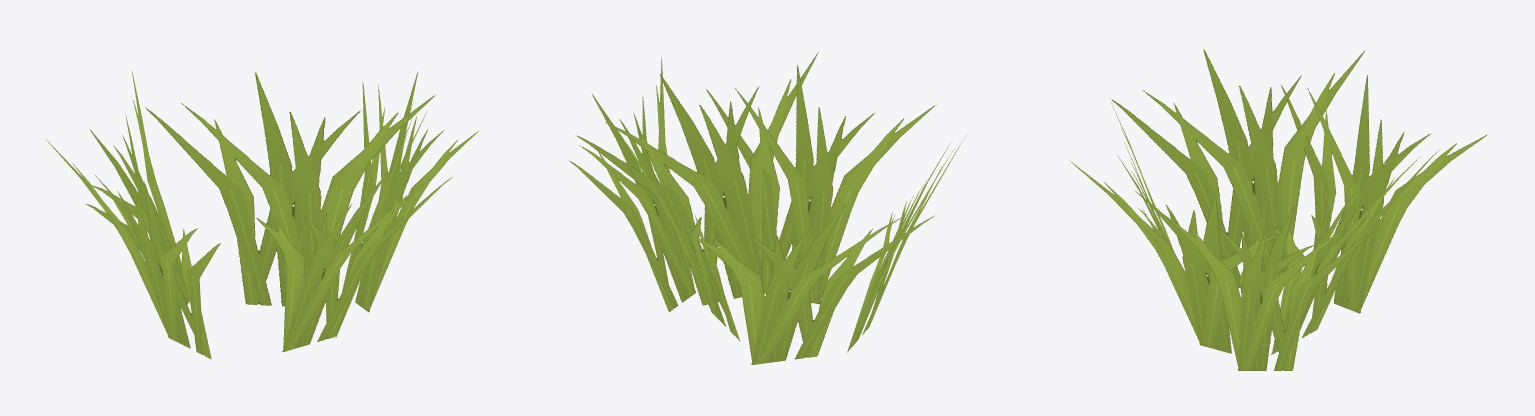
File: Furn_Grass_Lawn_A.fbx
3 views of the same model, side by side, from view 1: azimuth 30°, elevation 25°; view 2: azimuth 150°, elevation 25°; view 3: azimuth 270°, elevation 25° (orthographic).
Parts seen in each view (by area): view 1: Furn_Grass_Lawn_A; view 2: Furn_Grass_Lawn_A; view 3: Furn_Grass_Lawn_A.
Boxes of the visible parts, box(x1,y1,x2,y2) form: Furn_Grass_Lawn_A: box(45, 71, 478, 358); Furn_Grass_Lawn_A: box(569, 52, 967, 364); Furn_Grass_Lawn_A: box(1069, 49, 1488, 370).
Size of the model in its own units: 0.3 by 0.15 by 0.3.
Materials: 1 (1 with a texture image).
